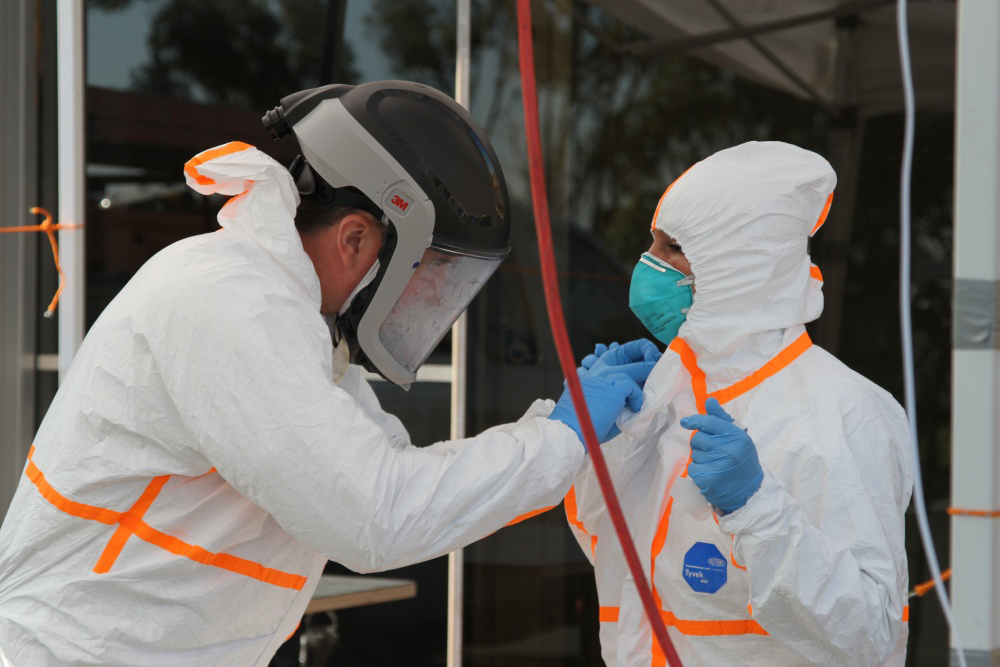Coverall: (7, 134, 562, 667), (562, 137, 922, 667)
Gloves: (546, 338, 661, 444), (681, 397, 770, 520)
Mask: (626, 251, 701, 345)
